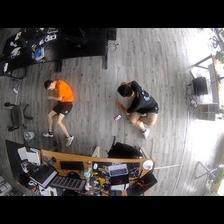fall: (115, 80, 158, 140), (40, 78, 76, 147)
